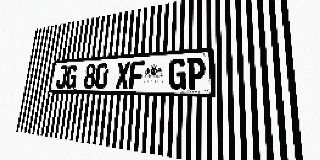0: (94, 63, 109, 89)
8: (83, 64, 97, 89)
F: (129, 61, 145, 89)
G: (168, 58, 186, 90), (65, 65, 78, 89)
J: (55, 65, 68, 88)
P: (186, 57, 205, 90)
X: (115, 62, 130, 89)
